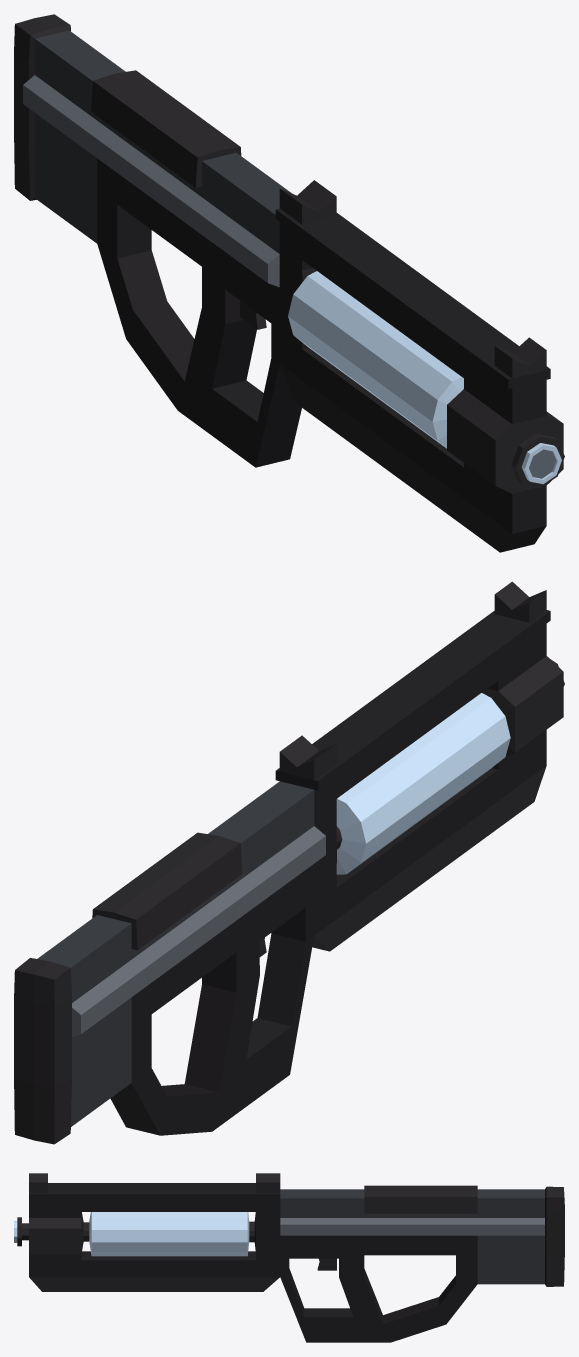
The model's file is EMP_Rifle.fbx.
3 renders of one model, top to bottom at view 1: azimuth 30°, elevation 25°; view 2: azimuth 150°, elevation 25°; view 3: azimuth 270°, elevation 25°, orthographic. The views are drawn at different scales.
Parts seen in each view (by area): view 1: EMP_Rifle; view 2: EMP_Rifle; view 3: EMP_Rifle.
Part boxes in pixels (x1=…): EMP_Rifle: x1=14, y1=14, x2=564, y2=552; EMP_Rifle: x1=14, y1=581, x2=564, y2=1144; EMP_Rifle: x1=14, y1=1173, x2=564, y2=1342.
Bounding box in the file's own units: 0.079 × 0.2867 × 0.8922.
